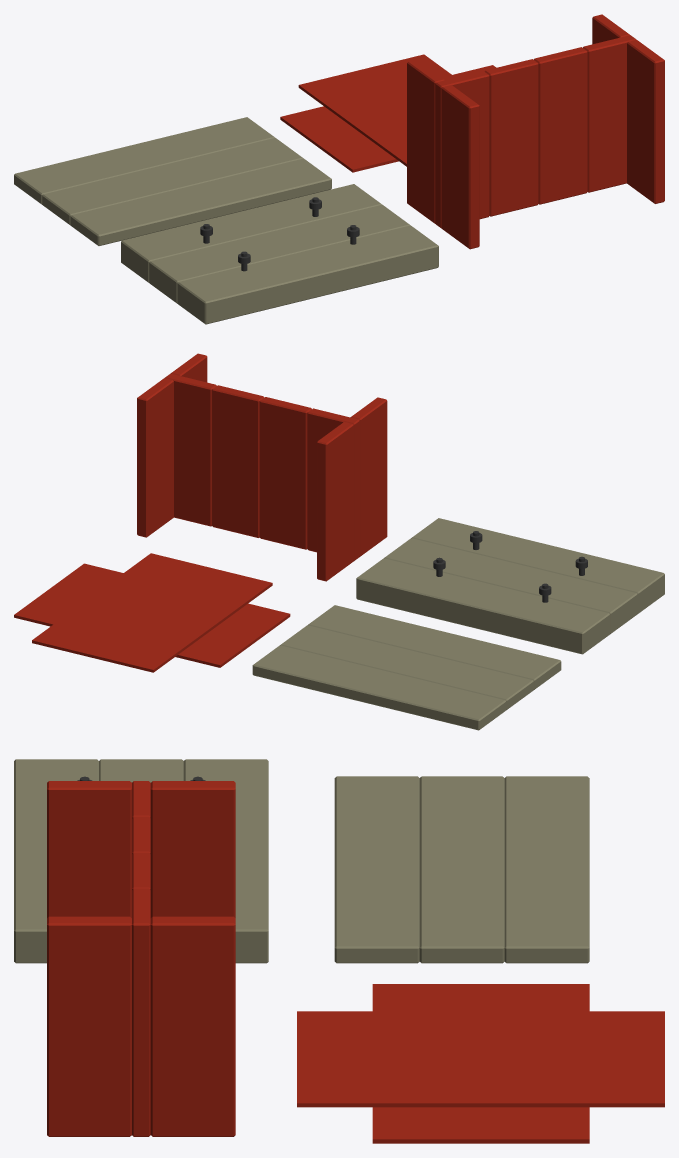
The model's file is step2.glb.
The picture shows the model from 3 angles, top to bottom: view 1: azimuth 30°, elevation 25°; view 2: azimuth 150°, elevation 25°; view 3: azimuth 270°, elevation 25°; orthographic projection. The views are drawn at different scales.
Visible parts, largest first — view 1: base1.003, base2.003, beam1.003, beam1.002, base1.002, base1.001, base2.002, base2.001, base2.005, beam1.004, beam2.002, beam3.002 (+4 smaller); view 2: base2.005, base1.001, base2.001, beam1.002, beam1.003, base1.002, base2.003, base2.002, base1.003, base1.005, beam1.004, beam3.001 (+4 smaller); view 3: base2.005, beam3.001, beam3.002, base2.001, base2.003, base2.002, base1.005, beam2.001, beam2.002, base1.001, base1.003, beam1.004 (+4 smaller).
Boxes of the visible parts, left/top/right/bottom form: base1.003: left=177, top=225, right=438, bottom=324; base2.003: left=70, top=158, right=331, bottom=245; beam1.003: left=533, top=47, right=587, bottom=204; beam1.002: left=484, top=59, right=538, bottom=216; base1.002: left=149, top=204, right=410, bottom=303; base1.001: left=121, top=184, right=381, bottom=282; base2.002: left=42, top=138, right=303, bottom=225; base2.001: left=14, top=117, right=274, bottom=204; base2.005: left=298, top=54, right=455, bottom=166; beam1.004: left=583, top=35, right=636, bottom=192; beam2.002: left=441, top=85, right=479, bottom=249; beam3.002: left=627, top=39, right=664, bottom=203; base2.005: left=32, top=553, right=272, bottom=672; base1.001: left=356, top=558, right=609, bottom=654; base2.001: left=252, top=645, right=506, bottom=730; beam1.002: left=259, top=397, right=311, bottom=549; beam1.003: left=212, top=385, right=264, bottom=537; base1.002: left=384, top=538, right=637, bottom=634; base2.003: left=308, top=605, right=561, bottom=689; base2.002: left=280, top=625, right=533, bottom=709; base1.003: left=411, top=518, right=664, bottom=613; base1.005: left=14, top=563, right=290, bottom=667; beam1.004: left=165, top=373, right=216, bottom=526; beam3.001: left=137, top=378, right=173, bottom=537; base2.005: left=297, top=1011, right=664, bottom=1107; beam3.001: left=150, top=916, right=235, bottom=1136; beam3.002: left=47, top=916, right=131, bottom=1136; base2.001: left=504, top=776, right=589, bottom=963; base2.003: left=334, top=776, right=419, bottom=963; base2.002: left=419, top=776, right=504, bottom=963; base1.005: left=372, top=984, right=589, bottom=1143; beam2.001: left=150, top=781, right=235, bottom=917; beam2.002: left=47, top=781, right=131, bottom=917; base1.001: left=183, top=759, right=268, bottom=963; base1.003: left=14, top=759, right=98, bottom=963; beam1.004: left=132, top=888, right=150, bottom=1136.
Size of the model in its own units: 0.88 by 0.25 by 0.69.
